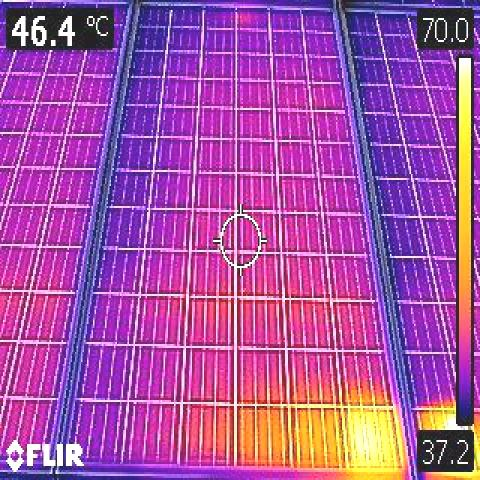fault: (345, 404, 403, 468)
